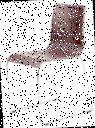Silla: (3, 2, 94, 127)
